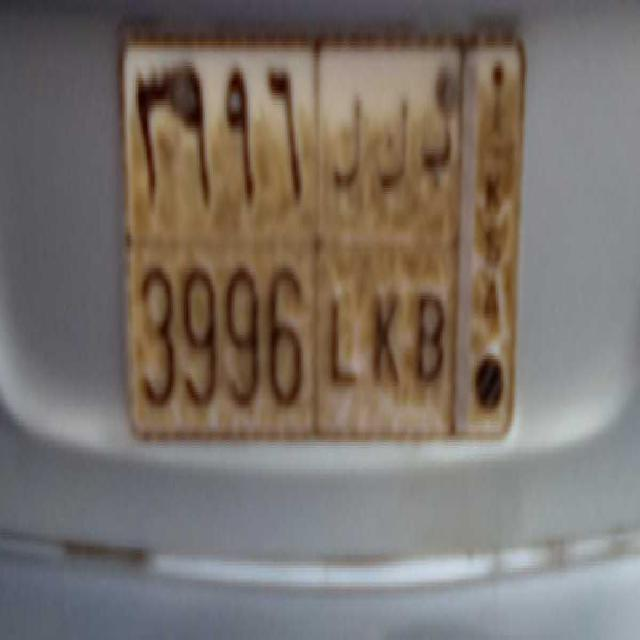license_plate: (130, 234, 454, 446)
